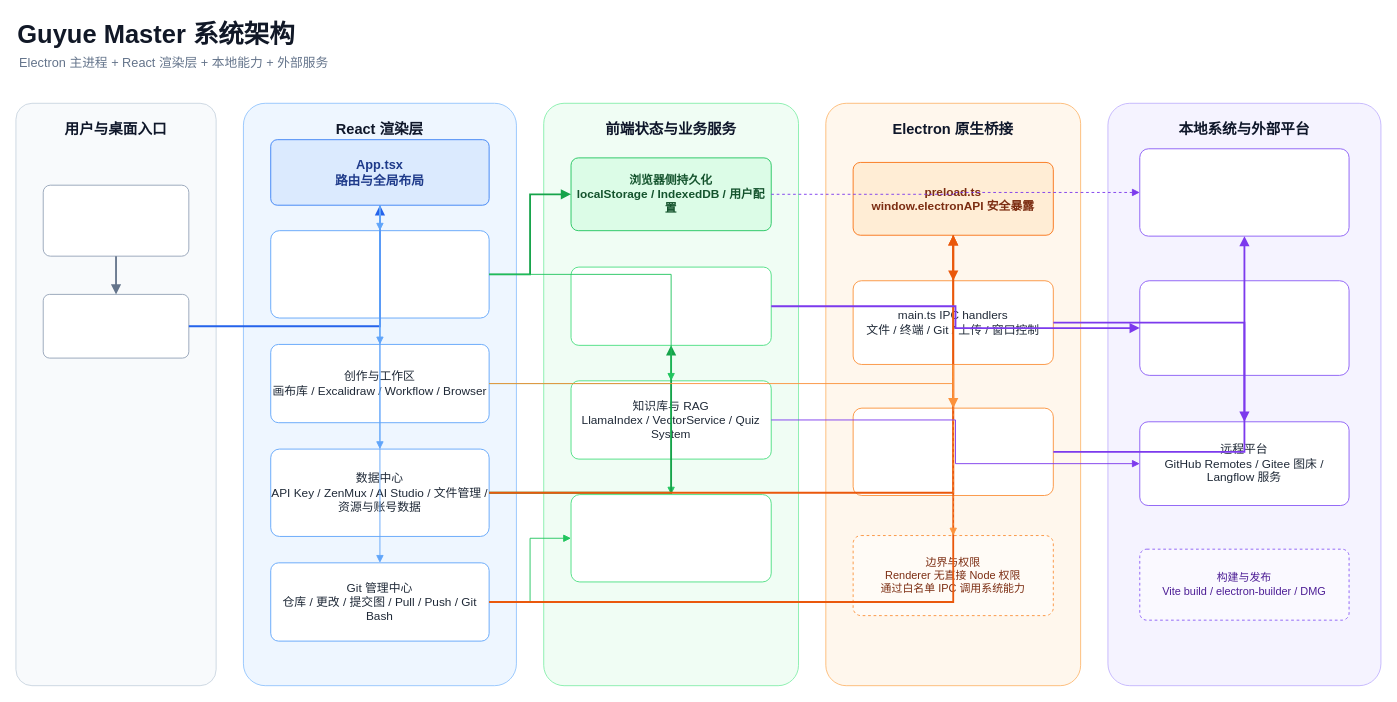
Image size: 1397x702. Some labels were removed from this diagram. The shapes that lost their labels are listed below. From the top down, each one's box as (x1, y1, x2, y2) in pixels, then its label:
(1139, 148, 1349, 236): 本地机器资源 文件系统 / 隐藏文件 / Git 仓库 / PTY Shell / 默认应用
(42, 184, 189, 256): 用户 桌面应用窗口
(270, 230, 489, 318): 核心功能模块 Todo / Notes / Markdown / LaTeX / Music / Practice / Spaces
(42, 293, 189, 358): 窗口 / 侧边栏 / 快捷入口
(570, 266, 771, 345): AI 业务服务 chatService / API 用量聚合 / Provider 配置
(1139, 280, 1349, 375): AI 与管理 API OpenAI / Gemini / Kimi / DeepSeek / ZenMux / Google Cloud Billing
(852, 407, 1053, 495): 原生能力封装 fs/dialog / node-pty / child_process git / shell.openPath
(570, 494, 771, 582): 模块状态管理 画布分类 / 标记文件 / Git 仓库列表 / 数据中心设置
